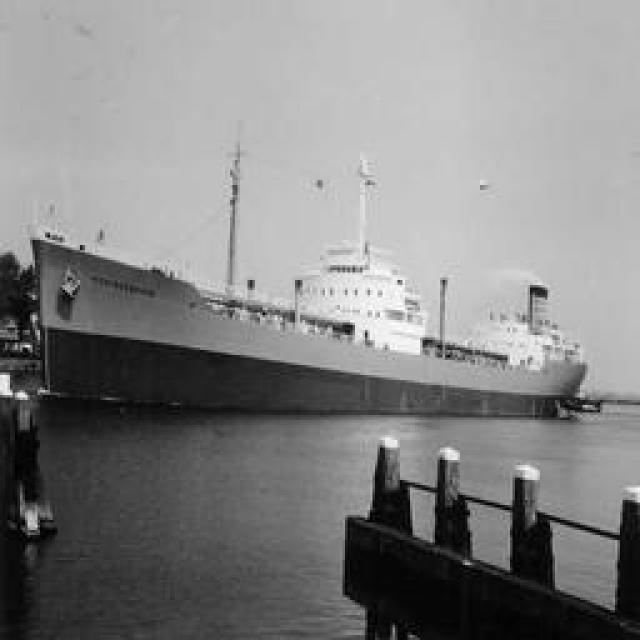Ship: (30, 205, 603, 420)
